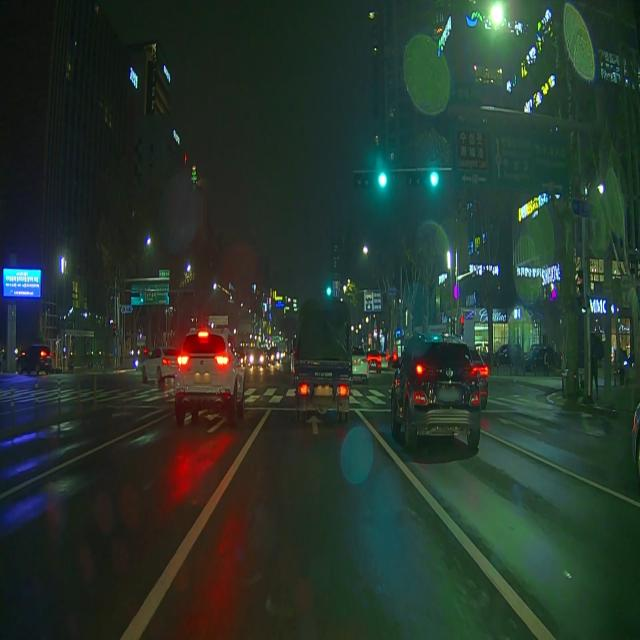Green Light: (378, 172, 388, 189), (429, 171, 439, 188)
